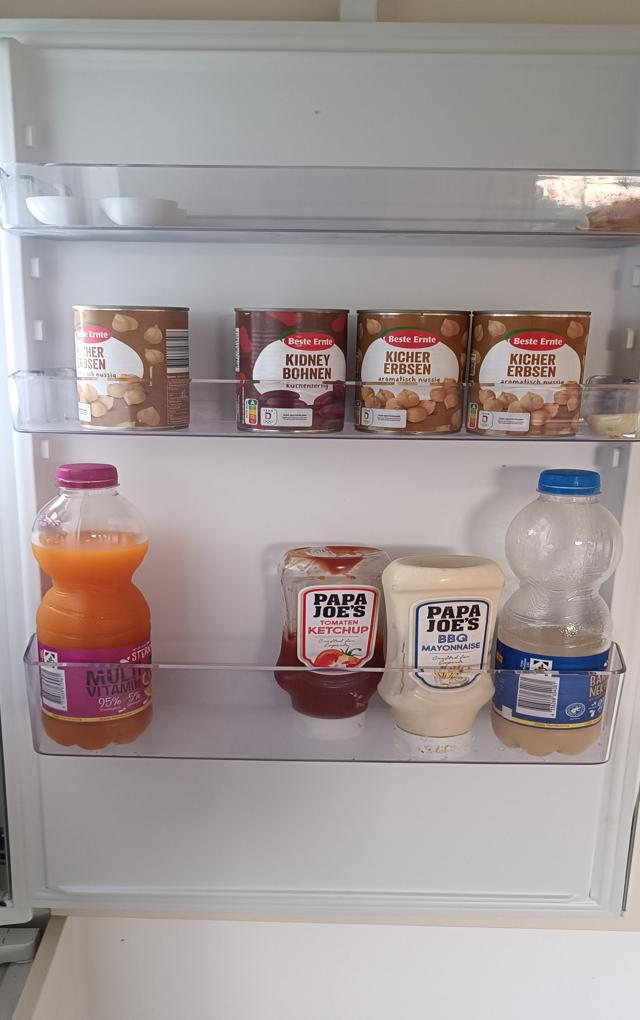bananajuice: (502, 466, 625, 755)
chickpeas: (73, 306, 193, 431), (357, 308, 466, 437), (474, 310, 590, 431)
kidneybeans: (235, 308, 346, 432)
mayoniasie: (381, 555, 502, 748)
orangejuice: (28, 458, 160, 751)
tomatoketchup: (278, 539, 385, 739)
